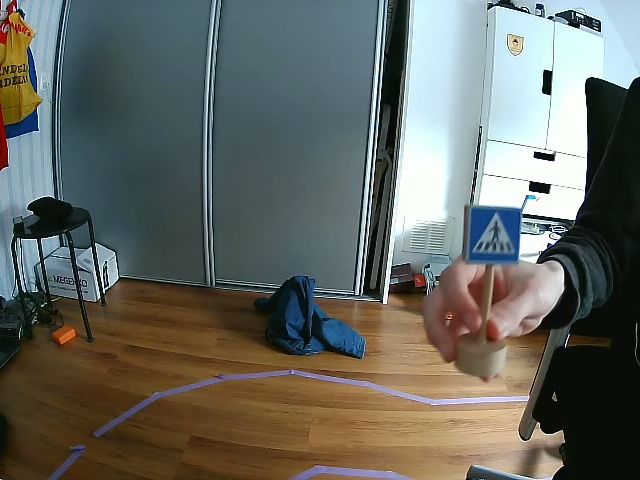zebrapad: (461, 204, 523, 262)
